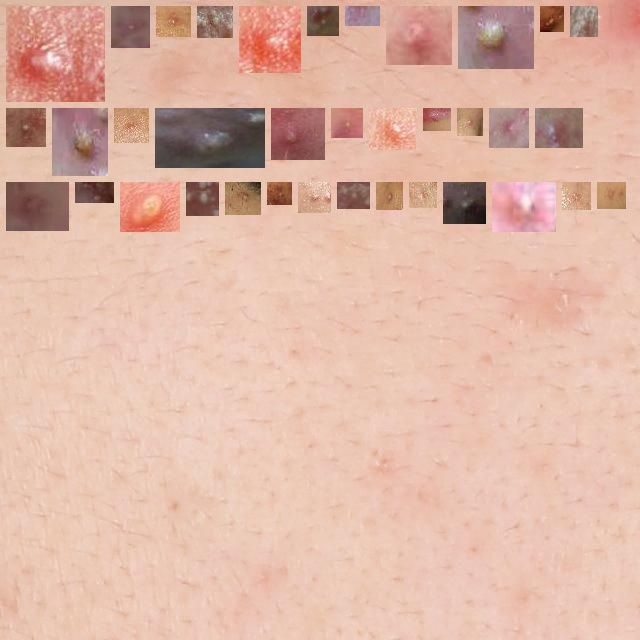pustule: (14, 14, 97, 94), (163, 116, 257, 160), (466, 14, 526, 61), (247, 14, 293, 65), (394, 14, 444, 57), (60, 116, 100, 168), (500, 190, 548, 224), (14, 190, 61, 223), (128, 190, 172, 224), (279, 116, 317, 153), (377, 116, 409, 142), (543, 116, 575, 140), (451, 190, 478, 216), (119, 14, 142, 40), (497, 116, 521, 140), (14, 116, 38, 139), (122, 116, 141, 135), (233, 190, 253, 207), (205, 14, 225, 30), (194, 190, 211, 208), (164, 14, 183, 29), (306, 190, 323, 205), (83, 190, 106, 201), (353, 6, 372, 18), (315, 14, 331, 28), (339, 116, 355, 130), (345, 190, 362, 201), (578, 14, 590, 29), (570, 190, 583, 202), (605, 190, 618, 201), (384, 190, 395, 202), (465, 116, 475, 128), (417, 190, 429, 200), (431, 116, 443, 123), (548, 14, 556, 24), (275, 190, 284, 197)
